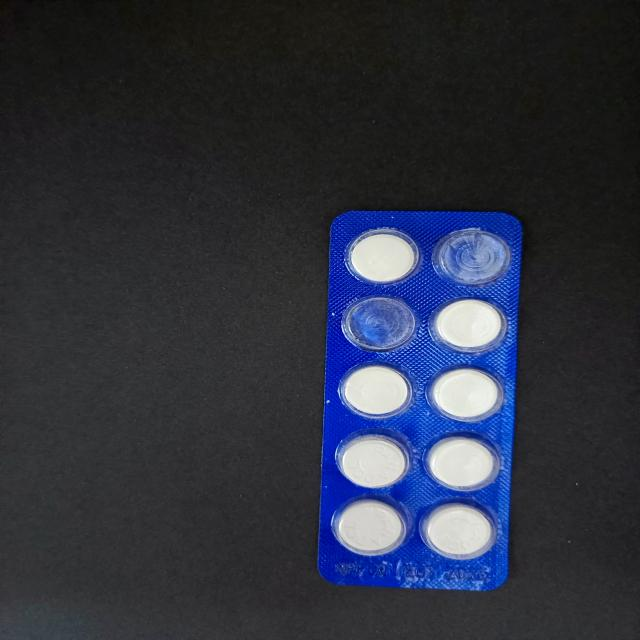defect: (430, 227, 513, 286), (340, 294, 420, 354)
